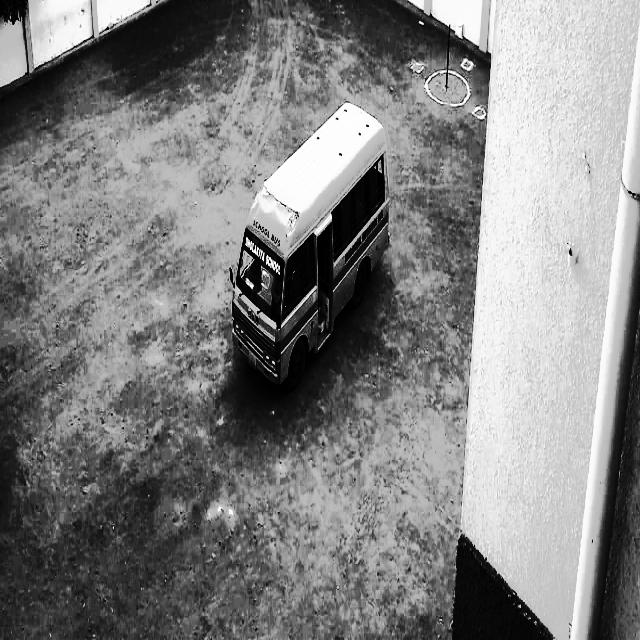Bus: (224, 94, 399, 408)
